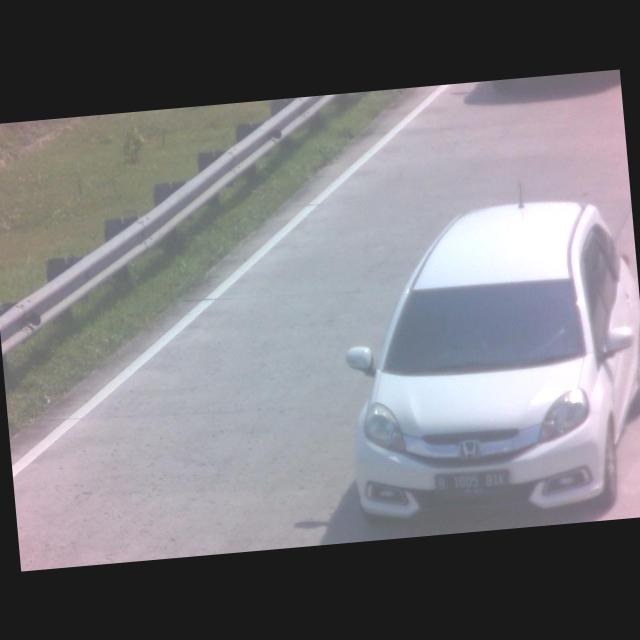plate: (430, 466, 508, 501)
